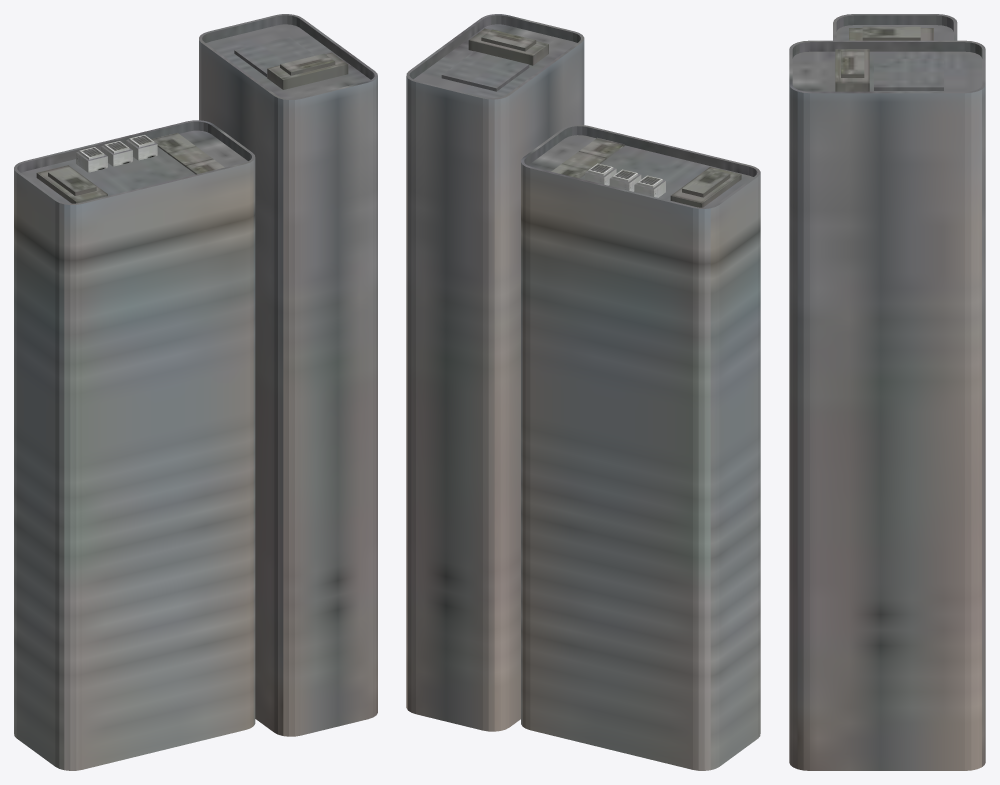
3 views of the same model, side by side, from view 1: azimuth 30°, elevation 25°; view 2: azimuth 150°, elevation 25°; view 3: azimuth 270°, elevation 25° (orthographic). The views are drawn at different scales.
Size of the model in its own units: 0.4429 by 0.909 by 0.2366.
1 material, 1 textured.
